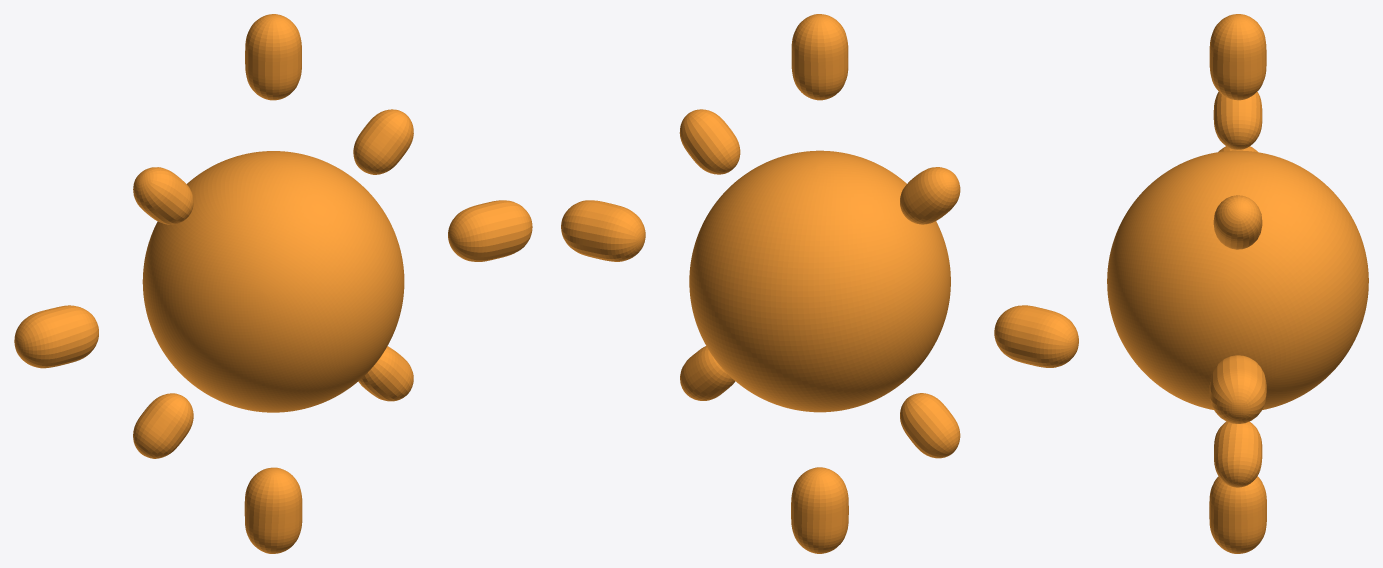
The model's file is sun.glb.
3 views of the same model, side by side, from view 1: azimuth 30°, elevation 25°; view 2: azimuth 150°, elevation 25°; view 3: azimuth 270°, elevation 25° (orthographic).
Parts seen in each view (by area): view 1: sun; view 2: sun; view 3: sun.
Boxes of the visible parts, box(x1,y1,x2,y2) form: sun: box(14, 14, 532, 553); sun: box(561, 14, 1078, 553); sun: box(1107, 14, 1368, 553).
Bounding box in the file's own units: 5.26 × 5.26 × 2.33.
1 material, 1 textured.
